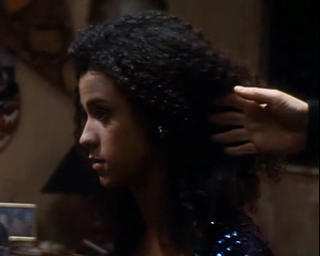cu: (1, 1, 320, 256)
face: (77, 81, 128, 188)
person: (67, 9, 284, 256)
